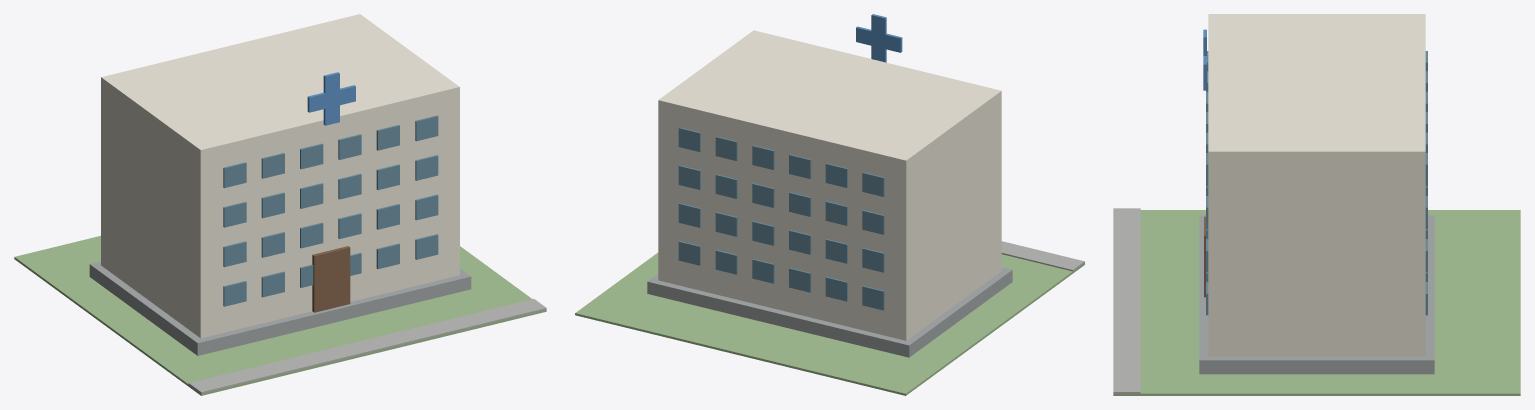
The model's file is hospital.fbx.
3 views of the same model, side by side, from view 1: azimuth 30°, elevation 25°; view 2: azimuth 150°, elevation 25°; view 3: azimuth 270°, elevation 25° (orthographic). The views are drawn at different scales.
Parts seen in each view (by area): view 1: hospital; view 2: hospital; view 3: hospital.
Boxes of the visible parts, <box> form: hospital: <box>14,14,546,395</box>; hospital: <box>575,14,1084,395</box>; hospital: <box>1113,14,1520,395</box>.
Bounding box in the file's own units: 960 × 660 × 900.
